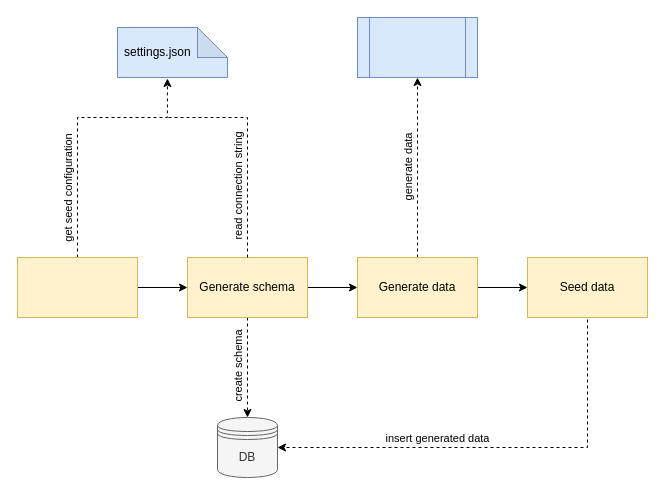
This 665x495 diagram has some shape labels left out. The box of each missing label's shape, as (x1, y1, x2, y2) in pixels:
Load seed information: (16, 256, 138, 318)
Seedly Engine: (356, 16, 478, 78)
